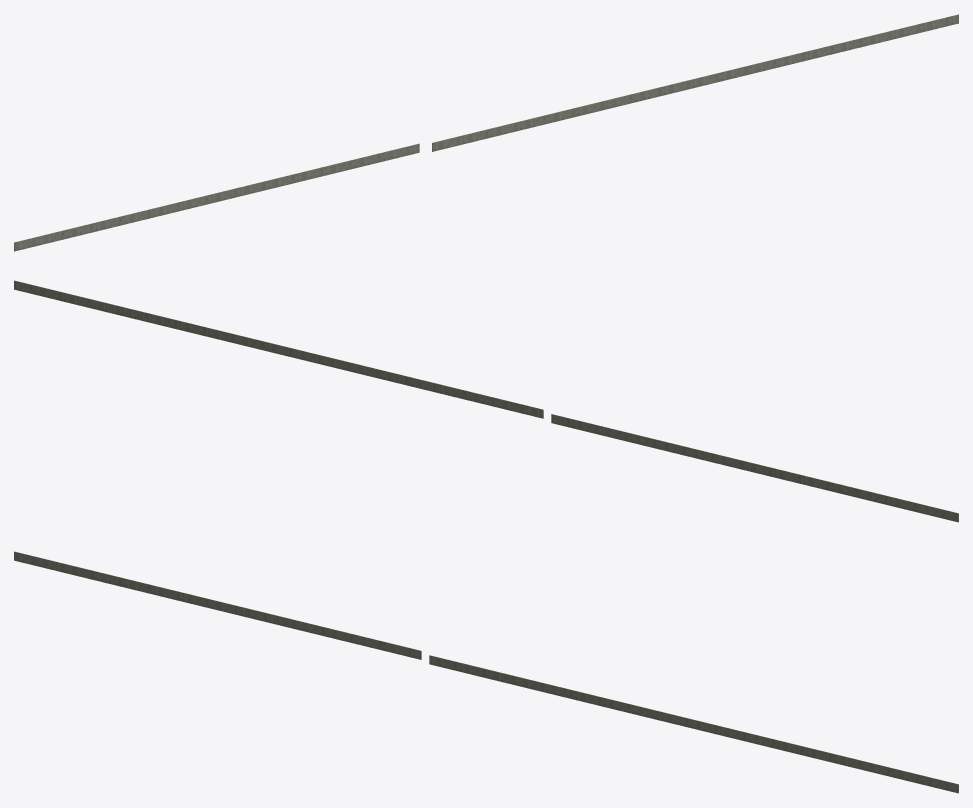
3 views of the same model, one above another, from view 1: azimuth 30°, elevation 25°; view 2: azimuth 150°, elevation 25°; view 3: azimuth 330°, elevation 25° (orthographic).
Bounding box in the file's own units: 9.99 × 0.09 × 0.05.
1 material, 1 textured.
